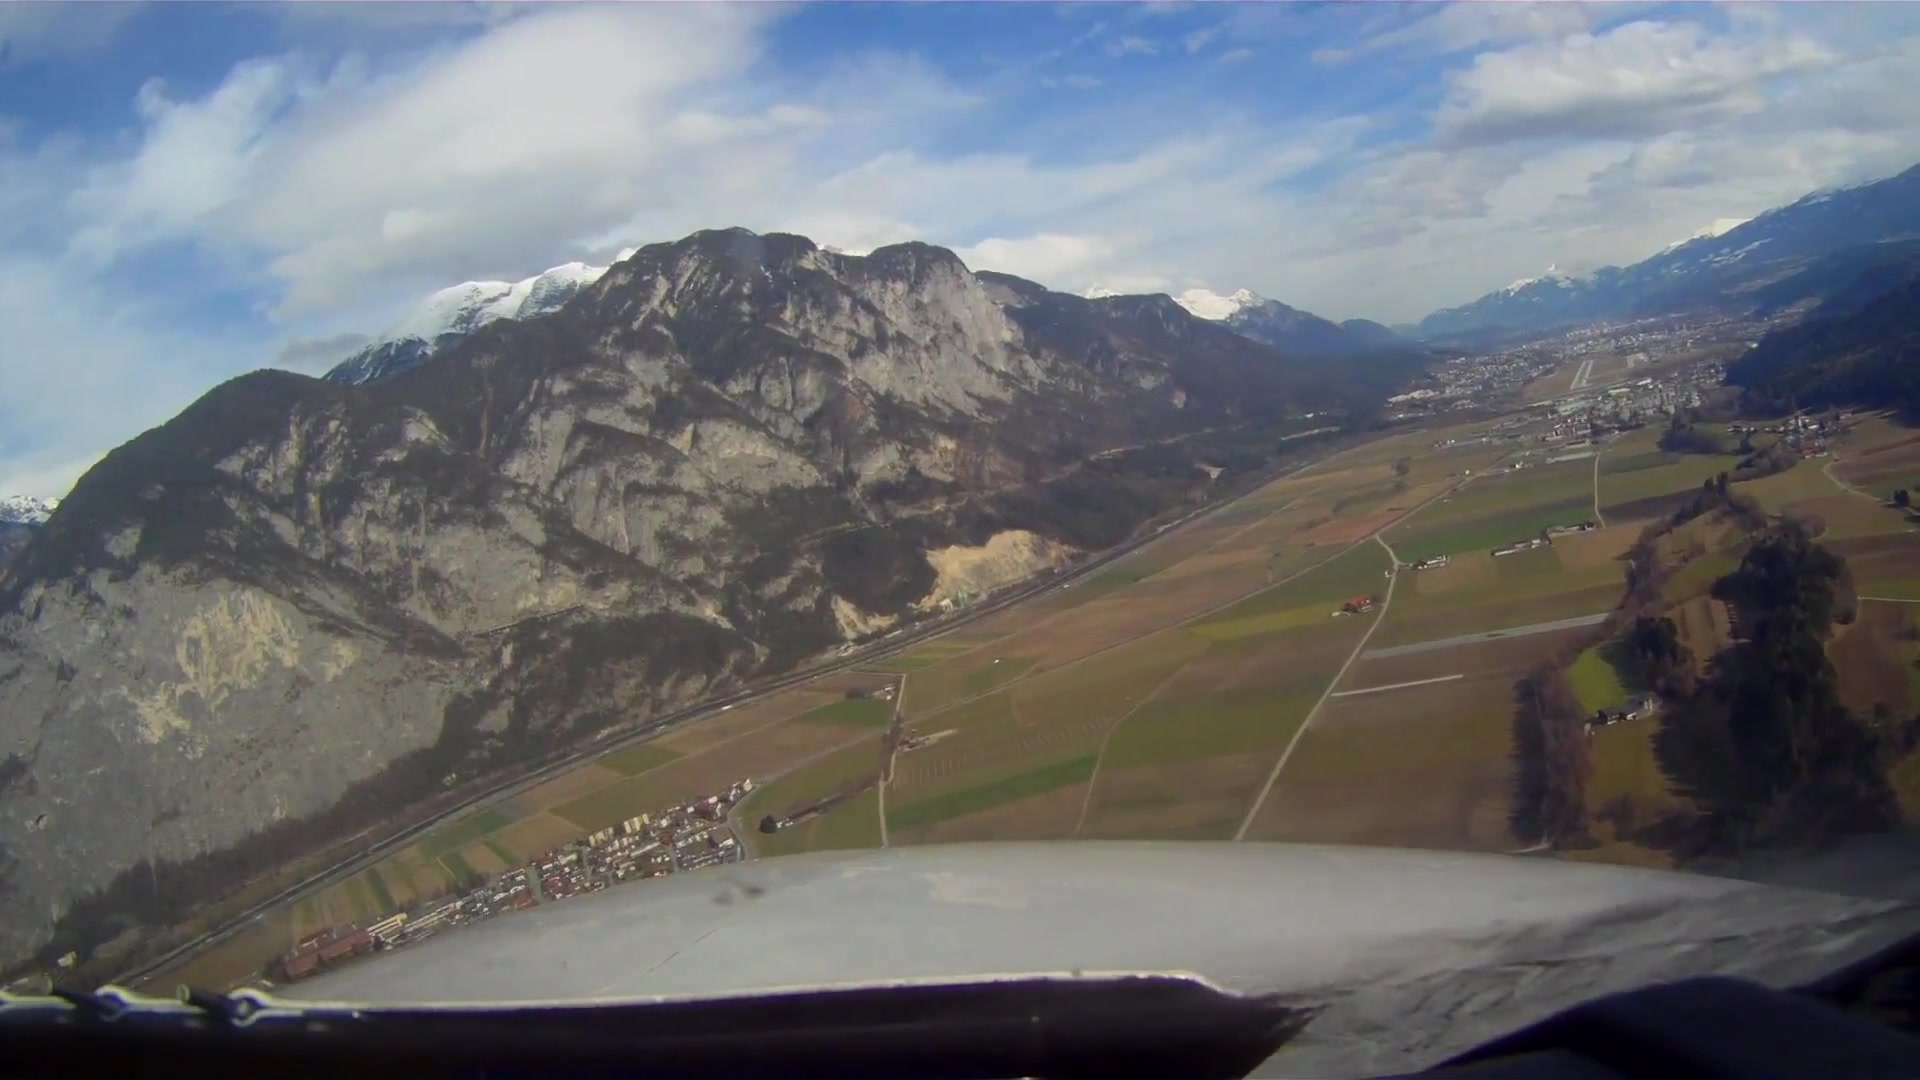runway: (1569, 357, 1594, 390)
